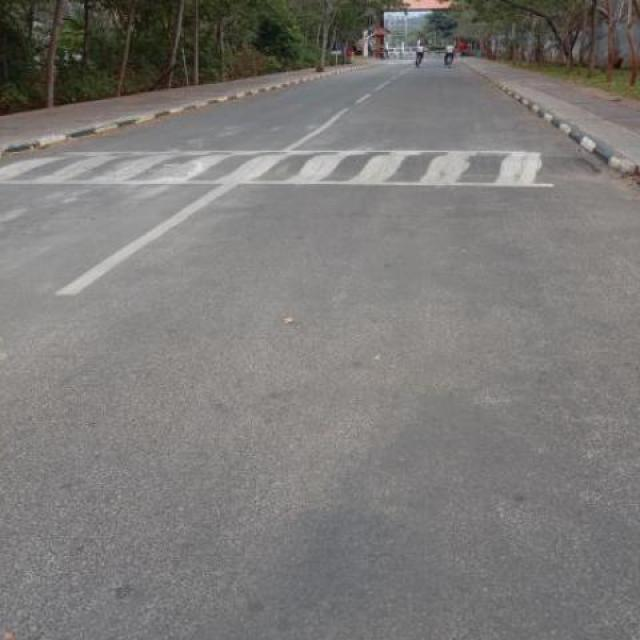Speed Bump: (1, 148, 600, 183)
